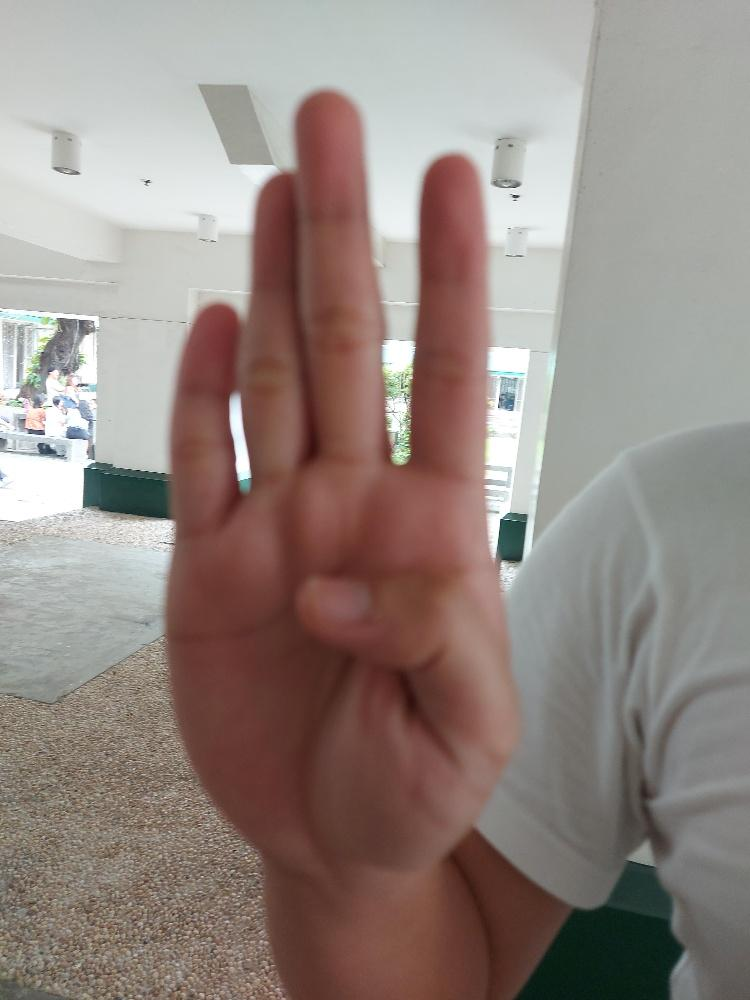b: (163, 81, 516, 869)
